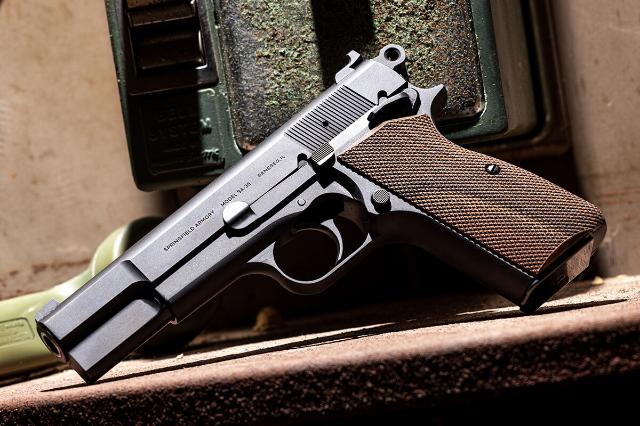handgun: (30, 38, 612, 388)
